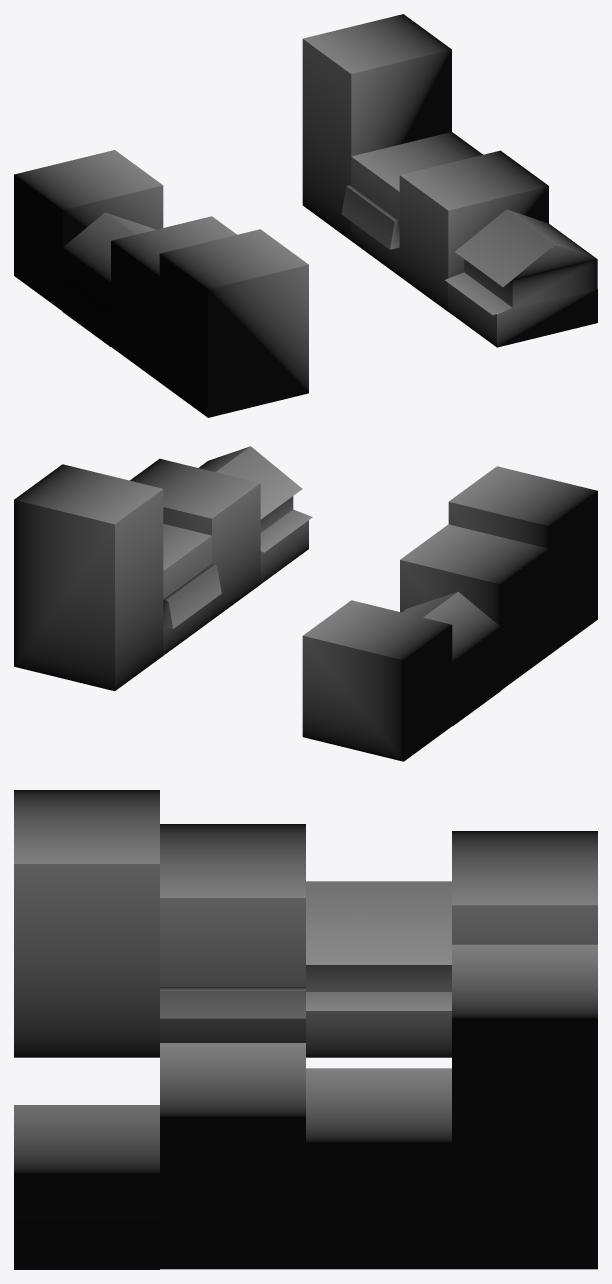
Rendered from K_BILL00.glb.
3 renders of one model, top to bottom at view 1: azimuth 30°, elevation 25°; view 2: azimuth 150°, elevation 25°; view 3: azimuth 270°, elevation 25°, orthographic. The views are drawn at different scales.
Visible parts, largest first — view 1: d, a, c, b; view 2: a, c, d, b; view 3: c, a, d, b.
Part boxes in pixels (bbox=[...]): d: bbox=[159, 209, 597, 417]; a: bbox=[14, 14, 451, 310]; c: bbox=[111, 150, 548, 381]; b: bbox=[62, 132, 482, 346]; a: bbox=[14, 464, 452, 761]; c: bbox=[130, 458, 549, 689]; d: bbox=[199, 446, 597, 654]; b: bbox=[163, 524, 501, 726]; c: bbox=[160, 824, 305, 1269]; a: bbox=[452, 831, 597, 1269]; d: bbox=[14, 790, 159, 1269]; b: bbox=[306, 881, 451, 1269].
Bounding box in the file's own units: 116 × 47.45 × 100.
Materials: 4 (4 with a texture image).
